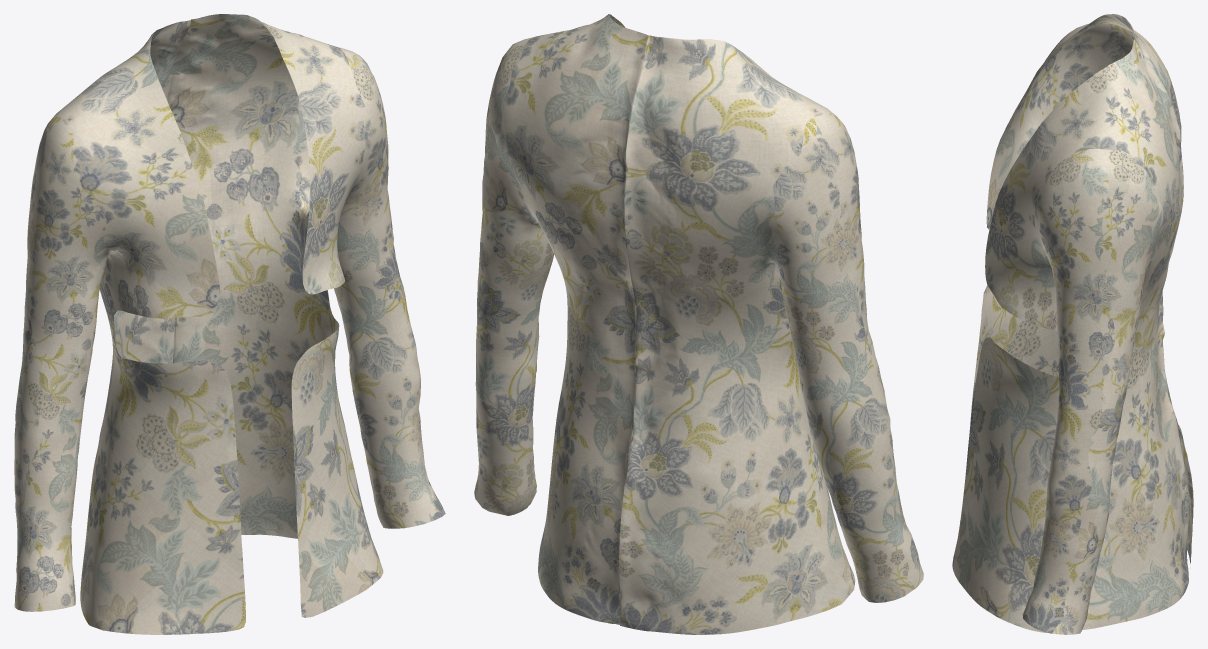
Rendered from full_lining_centre_vent.glb.
3 renders of one model, left to right at view 1: azimuth 30°, elevation 25°; view 2: azimuth 150°, elevation 25°; view 3: azimuth 270°, elevation 25°, orthographic. The views are drawn at different scales.
Visible parts, largest first — view 1: lining_centre_vent.002; view 2: lining_centre_vent.002; view 3: lining_centre_vent.002.
Part boxes in pixels (x1,y1,x2,y2): lining_centre_vent.002: (14, 14, 445, 634); lining_centre_vent.002: (474, 14, 923, 634); lining_centre_vent.002: (952, 14, 1193, 634).
Size of the model in its own units: 59.96 by 74.63 by 30.51.
Materials: 1 (1 with a texture image).
